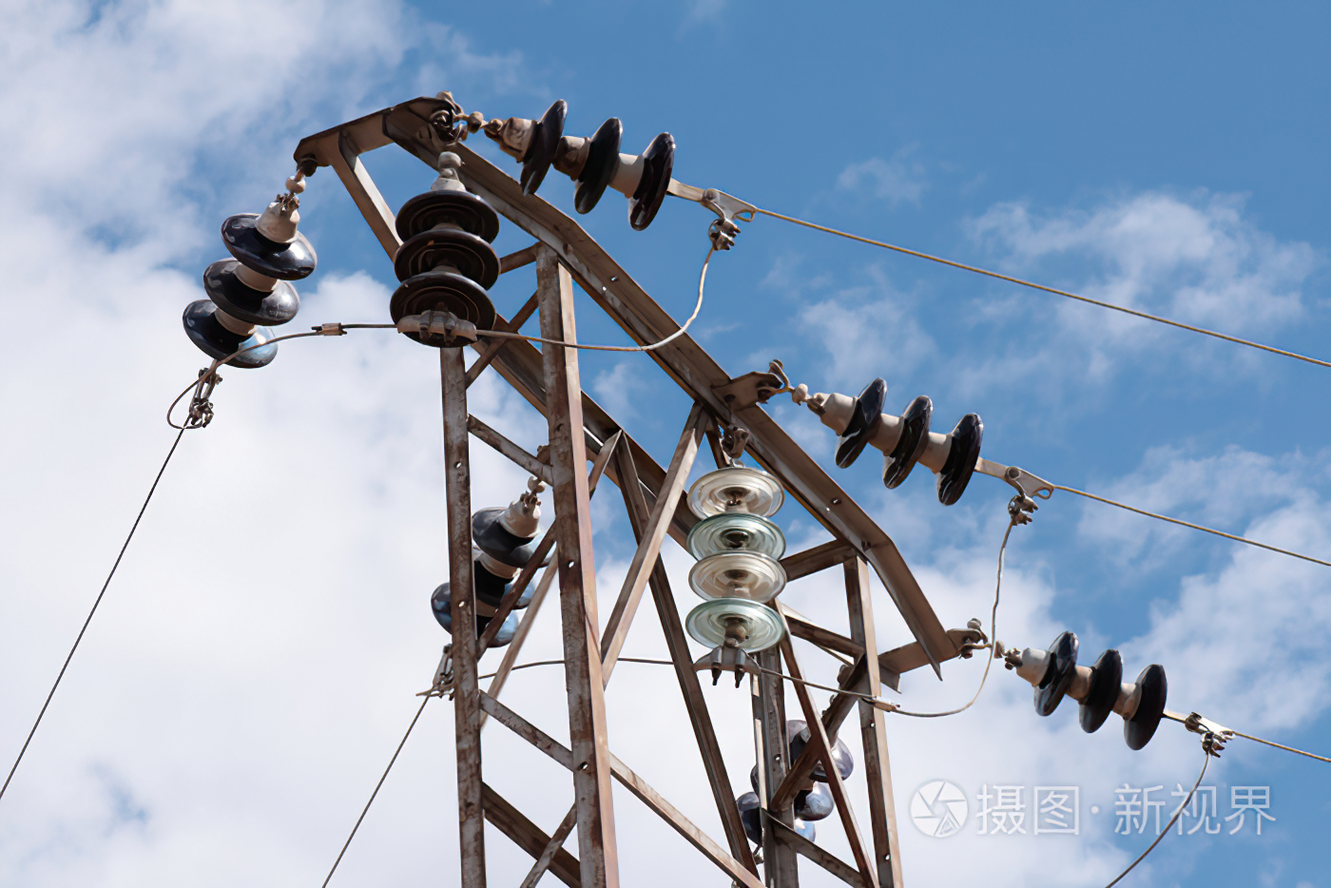insulator: (511, 93, 674, 236), (182, 206, 313, 363), (836, 380, 986, 506), (686, 469, 791, 648), (1033, 621, 1166, 753), (430, 511, 552, 647), (394, 189, 507, 332), (728, 716, 844, 844)
